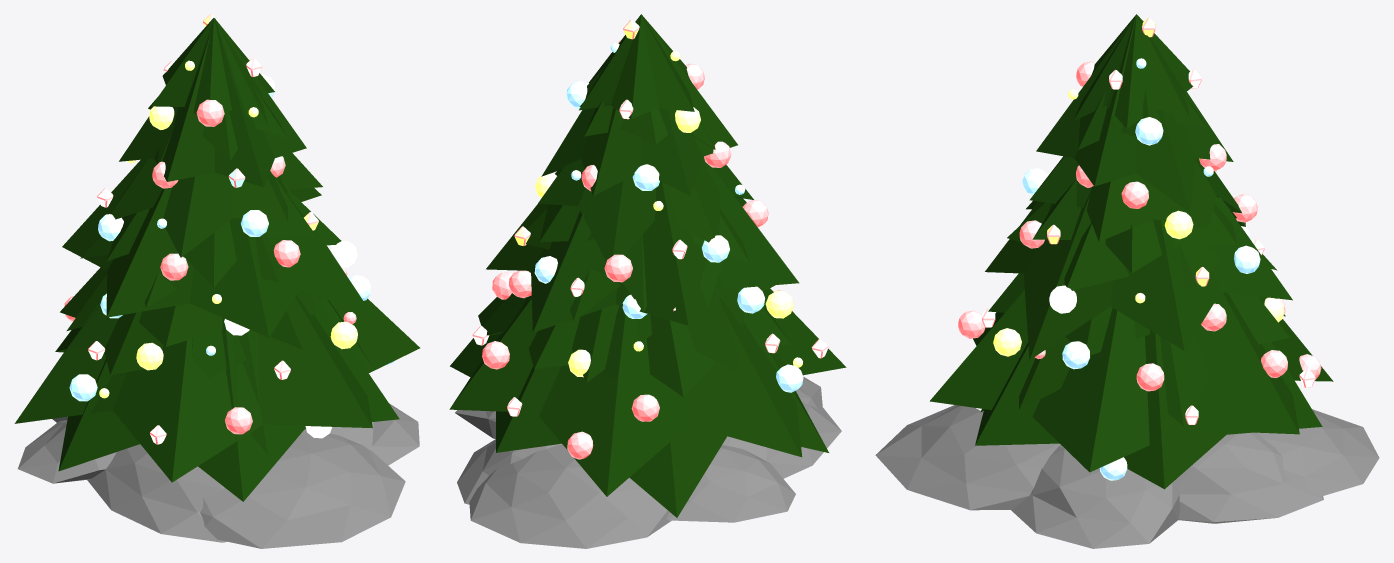
The model's file is tree.gltf.
3 views of the same model, side by side, from view 1: azimuth 30°, elevation 25°; view 2: azimuth 150°, elevation 25°; view 3: azimuth 270°, elevation 25° (orthographic). The views are drawn at different scales.
Parts seen in each view (by area): view 1: Tree_E, Icosphere.184, Icosphere.206, Icosphere.195, Icosphere.197, Icosphere.213, Icosphere.196, Icosphere.210, Icosphere.211, Icosphere.186, Icosphere.225, Icosphere.188 (+1 smaller); view 2: Tree_E, Icosphere.184, Icosphere.199, Icosphere.192, Icosphere.190, Icosphere.211, Icosphere.205, Icosphere.206, Icosphere.188, Icosphere.201, Icosphere.198, Icosphere.191 (+4 smaller); view 3: Tree_E, Icosphere.184, Icosphere.210, Icosphere.203, Icosphere.202, Icosphere.209, Icosphere.212, Icosphere.225, Icosphere.204, Icosphere.195, Icosphere.200.
Boxes of the visible parts, left/top/right/bottom form: Tree_E: left=14, top=18, right=420, bottom=501; Icosphere.184: left=18, top=403, right=419, bottom=548; Icosphere.206: left=69, top=374, right=97, bottom=401; Icosphere.195: left=225, top=407, right=252, bottom=434; Icosphere.197: left=160, top=253, right=188, bottom=280; Icosphere.213: left=196, top=99, right=224, bottom=126; Icosphere.196: left=241, top=210, right=268, bottom=236; Icosphere.210: left=330, top=321, right=357, bottom=349; Icosphere.211: left=136, top=342, right=163, bottom=370; Icosphere.186: left=273, top=240, right=300, bottom=267; Icosphere.225: left=330, top=240, right=357, bottom=267; Icosphere.188: left=98, top=214, right=123, bottom=241; Tree_E: left=449, top=14, right=846, bottom=517; Icosphere.184: left=455, top=376, right=841, bottom=548; Icosphere.199: left=604, top=254, right=632, bottom=282; Icosphere.192: left=482, top=341, right=509, bottom=369; Icosphere.190: left=631, top=394, right=659, bottom=421; Icosphere.211: left=765, top=290, right=793, bottom=318; Icosphere.205: left=737, top=286, right=765, bottom=313; Icosphere.206: left=776, top=364, right=803, bottom=392; Icosphere.188: left=702, top=235, right=729, bottom=262; Icosphere.201: left=567, top=431, right=593, bottom=459; Icosphere.198: left=632, top=164, right=659, bottom=190; Icosphere.191: left=509, top=270, right=531, bottom=298; Tree_E: left=930, top=14, right=1333, bottom=489; Icosphere.184: left=875, top=405, right=1379, bottom=548; Icosphere.210: left=993, top=328, right=1021, bottom=356; Icosphere.203: left=1136, top=363, right=1164, bottom=391; Icosphere.202: left=1062, top=341, right=1089, bottom=369; Icosphere.209: left=1164, top=210, right=1193, bottom=239; Icosphere.212: left=1135, top=117, right=1163, bottom=145; Icosphere.225: left=1049, top=285, right=1076, bottom=313; Icosphere.204: left=1121, top=181, right=1148, bottom=208; Icosphere.195: left=958, top=310, right=985, bottom=338; Icosphere.200: left=1234, top=245, right=1260, bottom=273.
Size of the model in its own units: 15.48 by 18.57 by 18.23.
